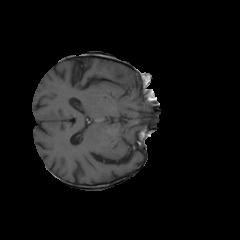glioma: (95, 61, 149, 99)
